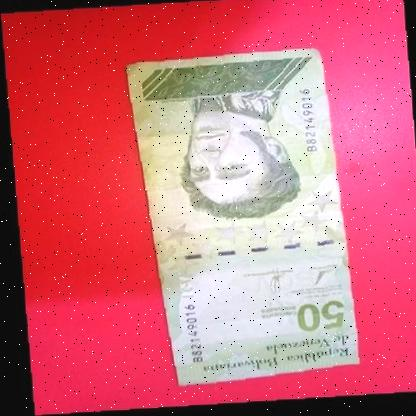fifty-front-vef: (123, 49, 356, 388)
